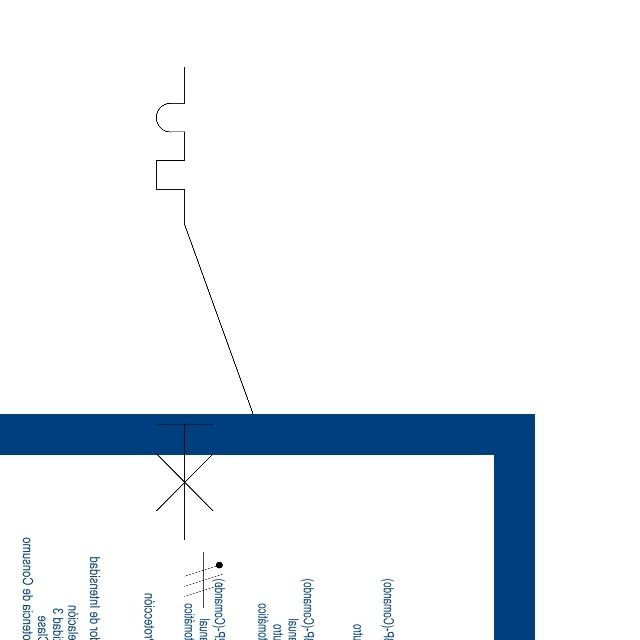interruptor_termomagnetico: (144, 55, 265, 552)
